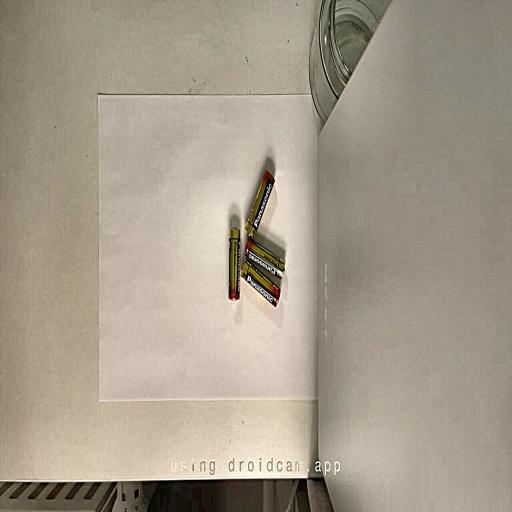PanasonicAA: (245, 171, 274, 237), (241, 261, 280, 306), (245, 238, 284, 278), (228, 228, 240, 300)
